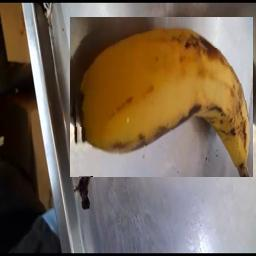Banana Semirotten: (70, 18, 253, 178)
